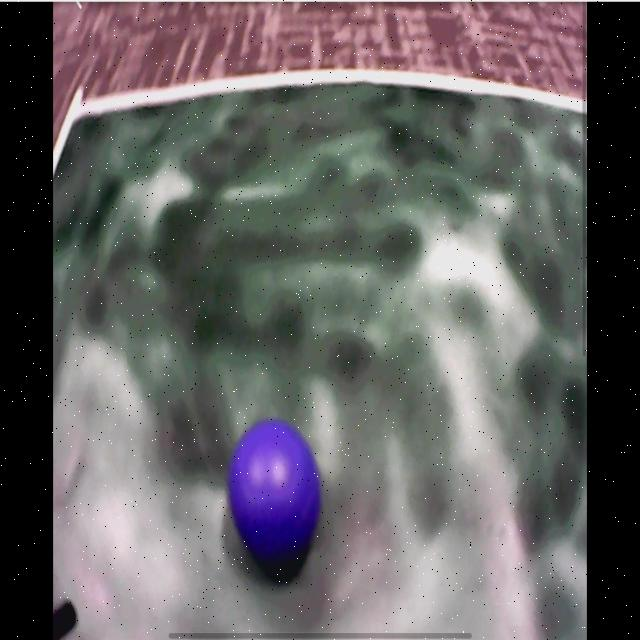ball: (232, 421, 321, 565)
